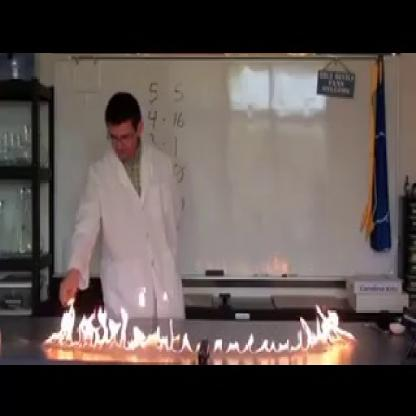fire: (40, 283, 358, 362)
